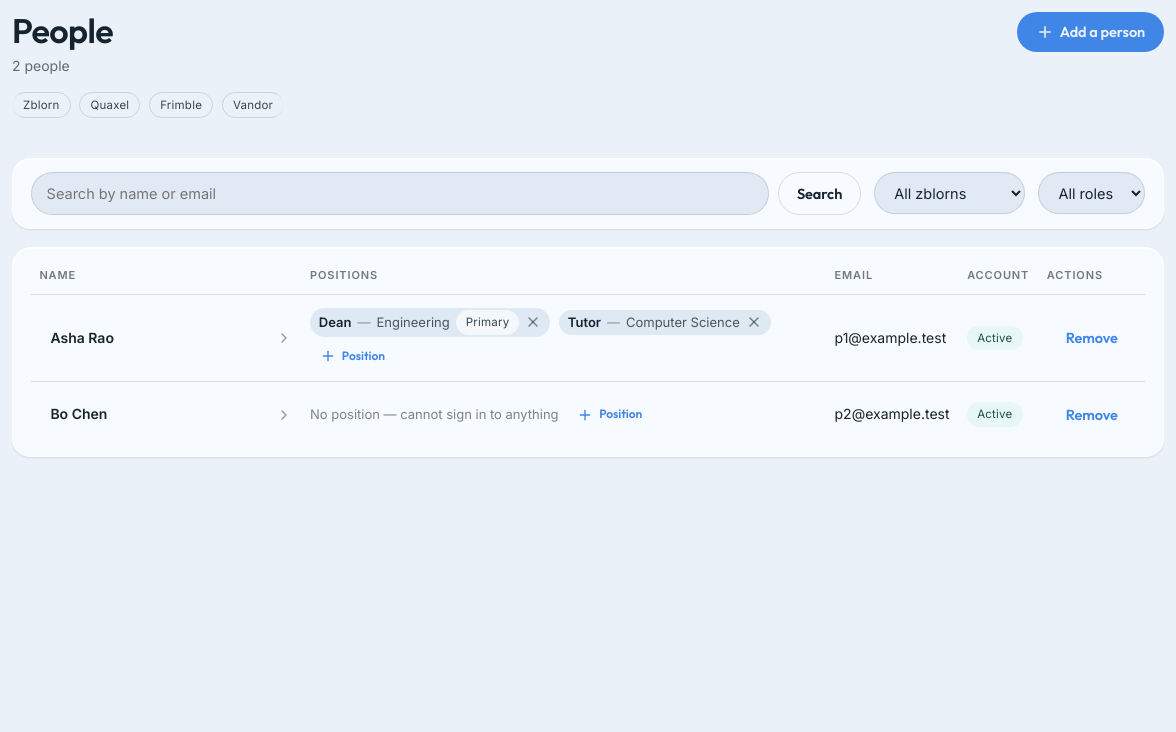
Test case: positions › shows a refusal INLINE and verbatim, never a toast
Click the button with class "btn-tiny" next to "No position — cannot sign in to anything" at (610, 415), box top-left (567, 404), bottom-right (652, 426)
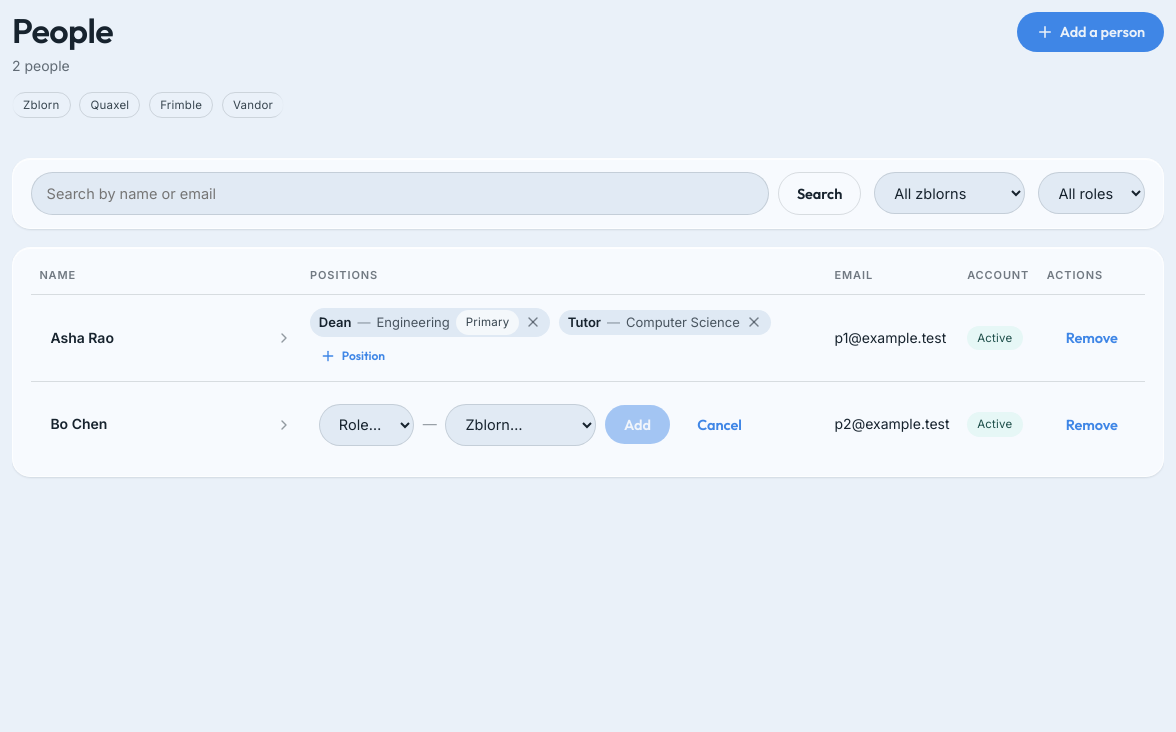
Select "Dean" in the 3rd dropdown named "Role" at (366, 425), box top-left (319, 404), bottom-right (414, 446)
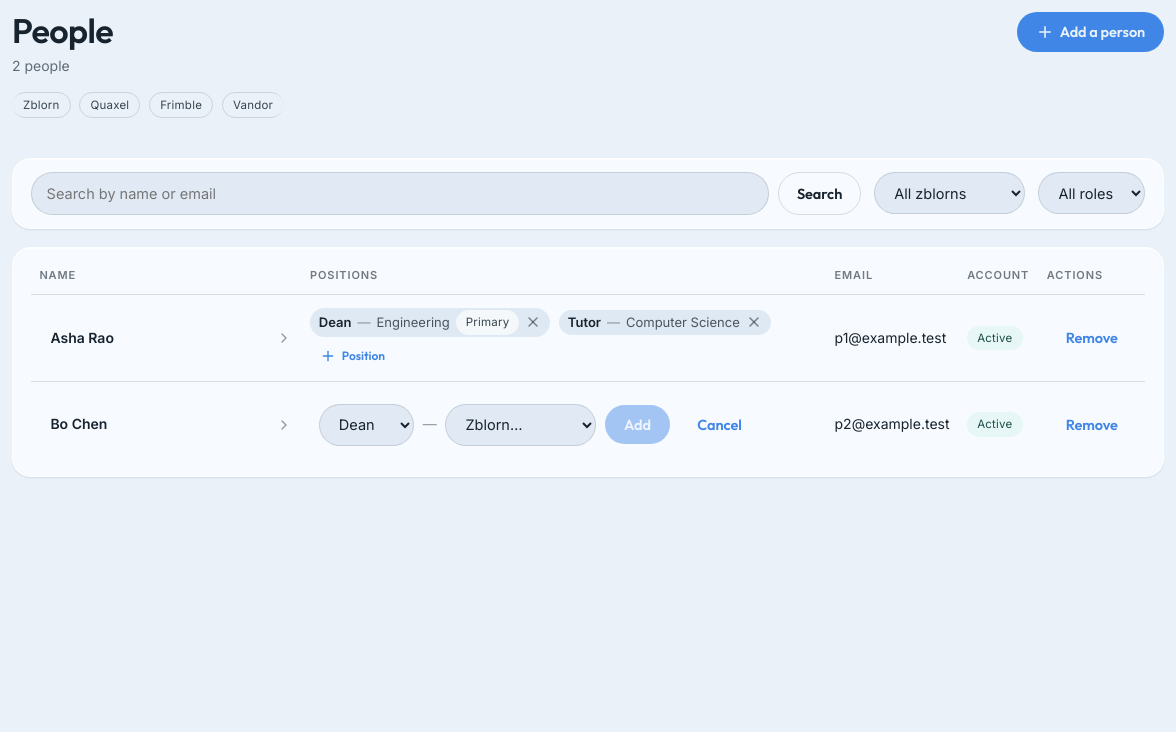
Select "Engineering" in the 4th dropdown named "Zblorn" at (521, 425), box top-left (446, 404), bottom-right (596, 446)
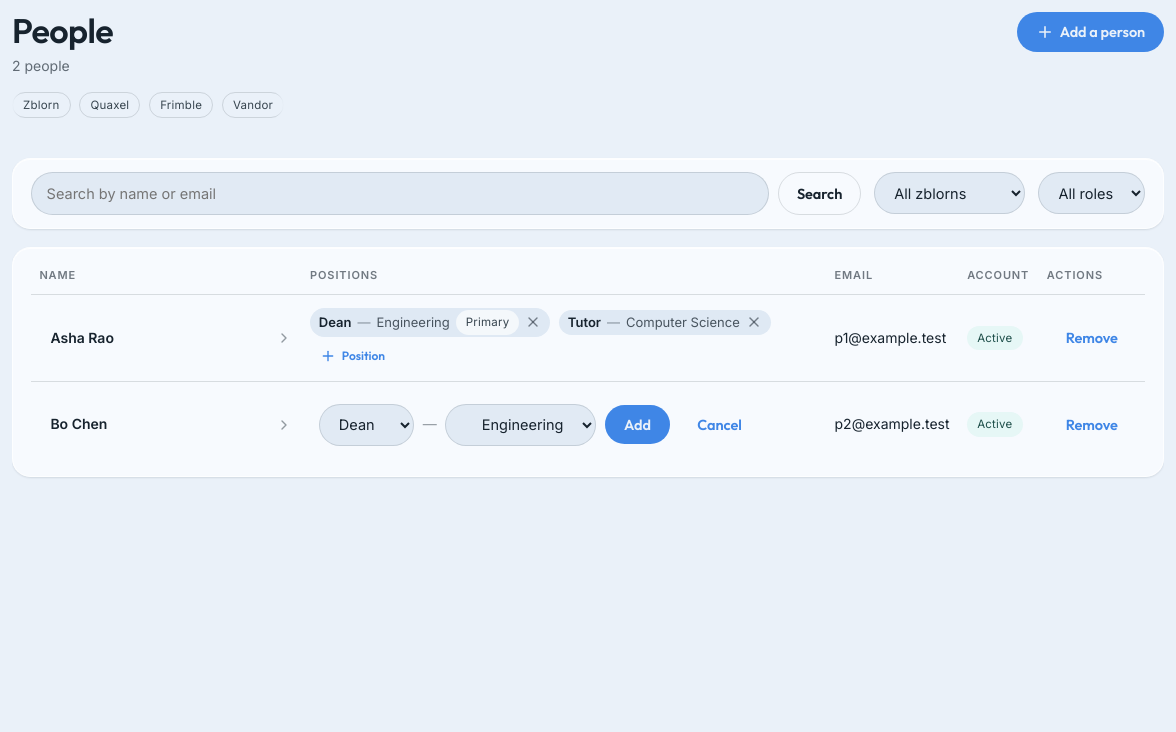
Click the button "Add" at (638, 425), box top-left (605, 405), bottom-right (670, 444)
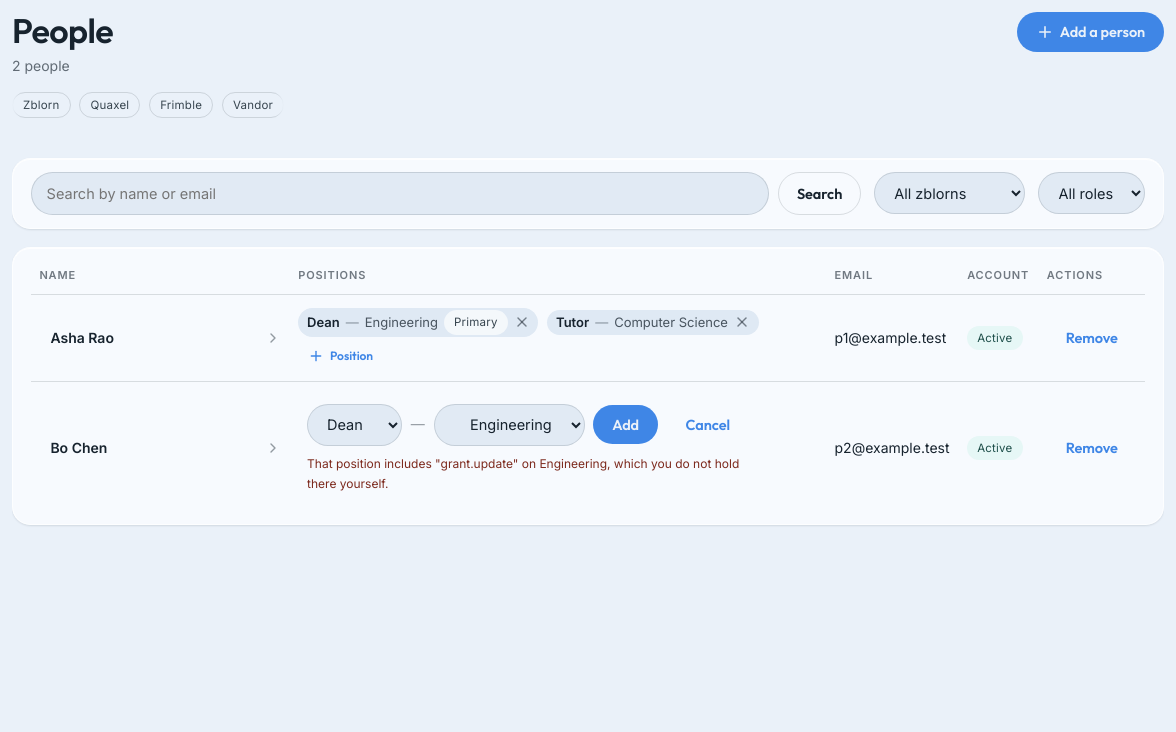
Expected: the message shows "grant.update", top-left (307, 456), bottom-right (739, 491)
Expected: the message shows "Engineering", top-left (307, 456), bottom-right (739, 491)
